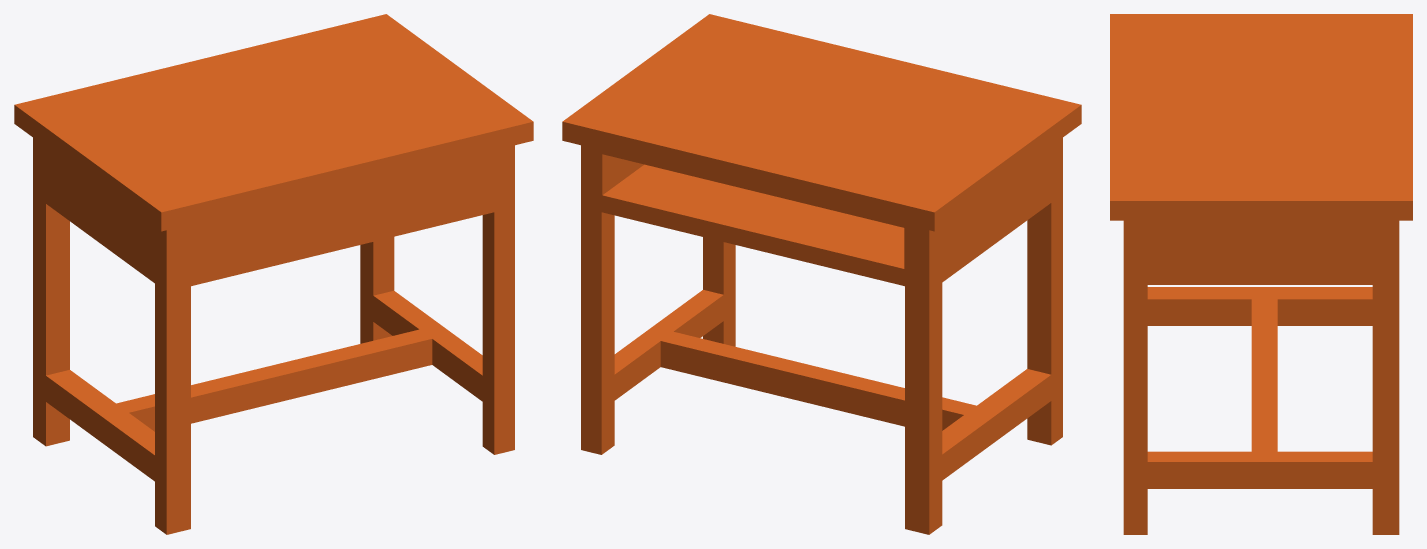
File: meja.fbx
3 renders of one model, left to right at view 1: azimuth 30°, elevation 25°; view 2: azimuth 150°, elevation 25°; view 3: azimuth 270°, elevation 25°, orthographic. The views are drawn at different scales.
Parts seen in each view (by area): view 1: Cube; view 2: Cube; view 3: Cube.
Part boxes in pixels (left/top/right/bottom): Cube: left=14, top=14, right=533, bottom=534; Cube: left=562, top=14, right=1081, bottom=534; Cube: left=1110, top=14, right=1412, bottom=534.
Size of the model in its own units: 3.23 by 2.74 by 2.21.
